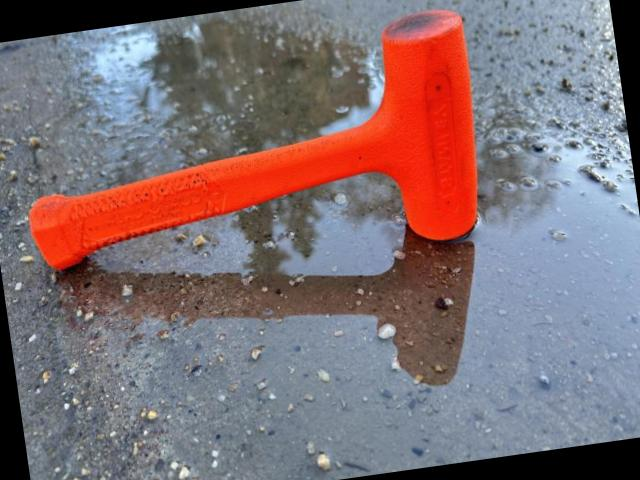hammer: (6, 5, 494, 298)
